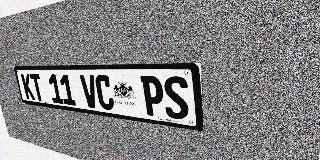1: (58, 74, 76, 106), (47, 74, 64, 104)
C: (94, 75, 115, 111)
K: (21, 74, 35, 100)
P: (140, 76, 165, 117)
S: (163, 76, 190, 121)
T: (30, 74, 45, 102)
V: (80, 75, 99, 109)
